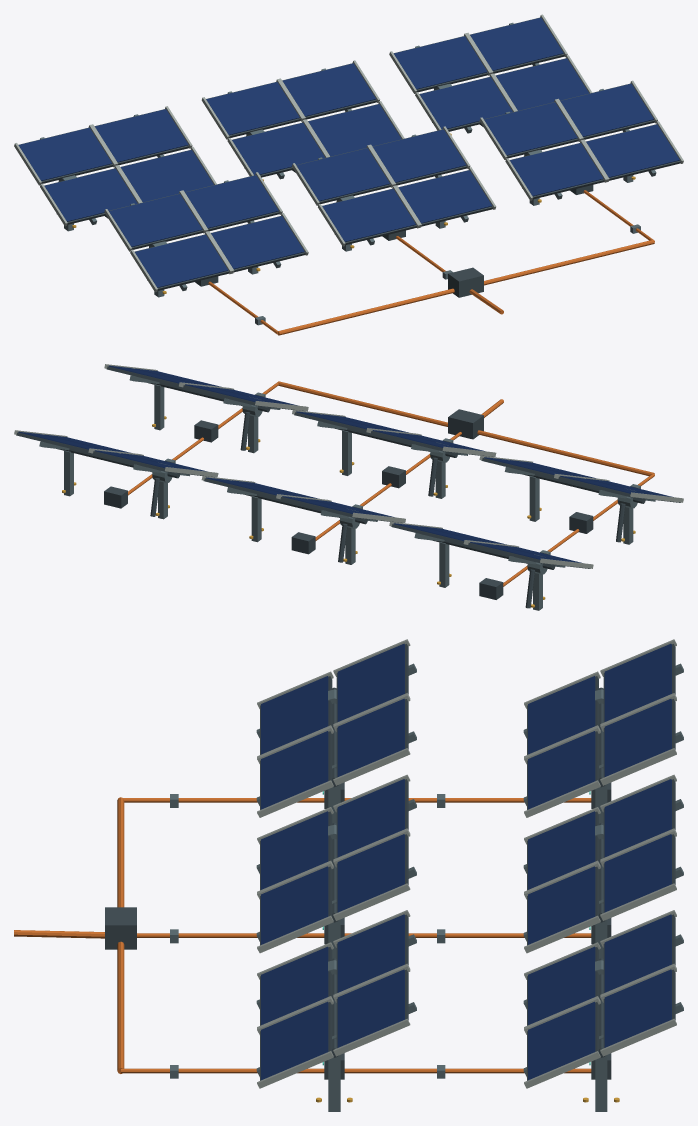
File: solar_array_d0.glb
3 views of the same model, one above another, from view 1: azimuth 30°, elevation 25°; view 2: azimuth 150°, elevation 25°; view 3: azimuth 270°, elevation 25° (orthographic). The views are drawn at different scales.
Visible parts, largest first — view 1: SOLAR_GAME_MESH_002, SOLAR_GAME_MESH_001, SOLAR_GAME_MESH_003, SOLAR_GAME_MESH_004, SOLAR_GAME_MESH_006, SOLAR_GAME_MESH_005, SOLAR_GAME_MESH; view 2: SOLAR_GAME_MESH, SOLAR_GAME_MESH_004, SOLAR_GAME_MESH_001, SOLAR_GAME_MESH_003, SOLAR_GAME_MESH_006, SOLAR_GAME_MESH_002, SOLAR_GAME_MESH_005; view 3: SOLAR_GAME_MESH_001, SOLAR_GAME_MESH_002, SOLAR_GAME_MESH_003, SOLAR_GAME_MESH_004, SOLAR_GAME_MESH_005, SOLAR_GAME_MESH_006, SOLAR_GAME_MESH.
Part boxes in pixels (x1=…): SOLAR_GAME_MESH_002: x1=292, y1=126, x2=496, y2=246; SOLAR_GAME_MESH_001: x1=104, y1=172, x2=308, y2=292; SOLAR_GAME_MESH_003: x1=479, y1=80, x2=683, y2=200; SOLAR_GAME_MESH_004: x1=14, y1=106, x2=216, y2=226; SOLAR_GAME_MESH_006: x1=389, y1=14, x2=592, y2=133; SOLAR_GAME_MESH_005: x1=201, y1=60, x2=404, y2=179; SOLAR_GAME_MESH: x1=58, y1=83, x2=654, y2=335; SOLAR_GAME_MESH: x1=57, y1=381, x2=654, y2=610; SOLAR_GAME_MESH_004: x1=389, y1=521, x2=593, y2=568; SOLAR_GAME_MESH_001: x1=479, y1=455, x2=683, y2=502; SOLAR_GAME_MESH_003: x1=104, y1=364, x2=308, y2=411; SOLAR_GAME_MESH_006: x1=14, y1=430, x2=218, y2=477; SOLAR_GAME_MESH_002: x1=292, y1=410, x2=496, y2=456; SOLAR_GAME_MESH_005: x1=201, y1=476, x2=405, y2=522; SOLAR_GAME_MESH_001: x1=256, y1=639, x2=416, y2=817; SOLAR_GAME_MESH_002: x1=256, y1=774, x2=416, y2=953; SOLAR_GAME_MESH_003: x1=256, y1=910, x2=416, y2=1088; SOLAR_GAME_MESH_004: x1=523, y1=639, x2=683, y2=817; SOLAR_GAME_MESH_005: x1=523, y1=774, x2=683, y2=953; SOLAR_GAME_MESH_006: x1=523, y1=910, x2=683, y2=1088; SOLAR_GAME_MESH: x1=14, y1=687, x2=619, y2=1111.
Bounding box in the file's own units: 16.88 × 2.29 × 12.55.
